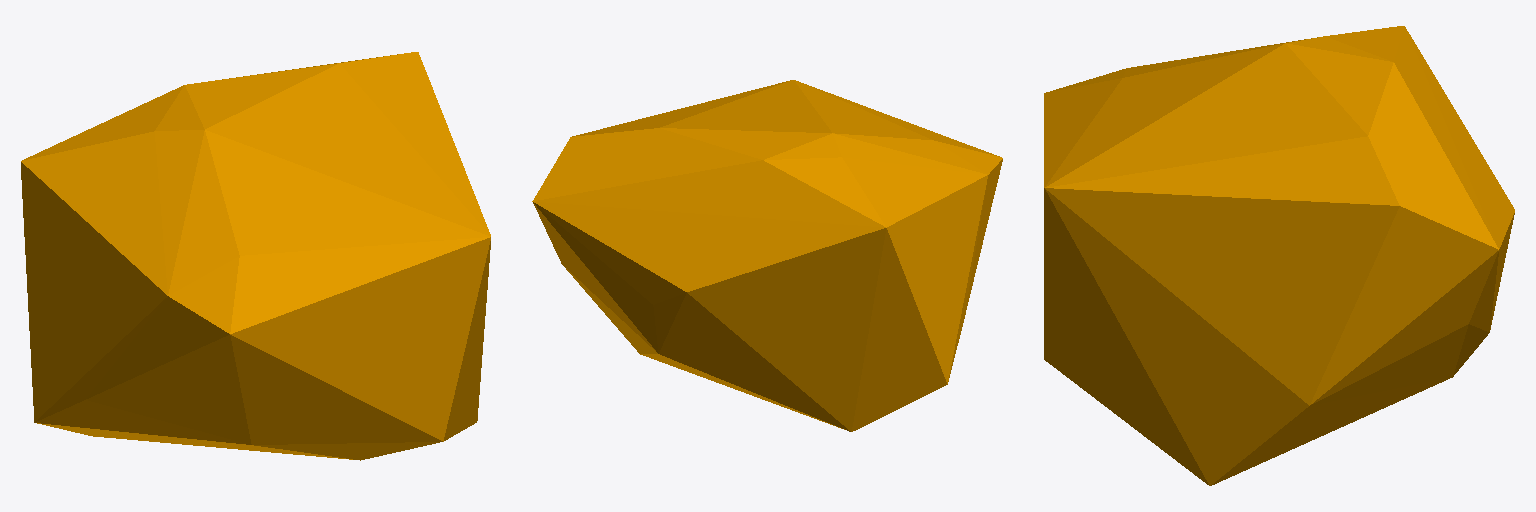
The robot description file, URDF, robot "61_665":
<?xml version="1.0"?>
<robot name="61_665">
  <link name="link">
    <contact>
      <lateral_friction value="0.6"/>
    </contact>
    <inertial>
      <mass value = "0.4599444430202761"/>
      <inertia ixx="0.0002142326211137349" ixy="1.782968277033168e-05" ixz="1.2252240130167542e-06" iyy="0.00023254495920886197" iyz="7.032862670540868e-06" izz="0.00028857791888579155" />
    </inertial>
    <visual name="visual">
      <geometry>
        <mesh filename="61_665.obj"/>
      </geometry>
    </visual>
    <collision name="collision">
      <geometry>
        <mesh filename="61_665.obj"/>
      </geometry>
    </collision>
  </link>
</robot>

--- Render facts (derived) ---
Views: 3 orthographic renders of the robot side by side, from view 1: azimuth 30°, elevation 25°; view 2: azimuth 150°, elevation 25°; view 3: azimuth 270°, elevation 25°.
Robot: 61_665 — 1 links, 0 joints (none); root link link; default pose: all joints at 0.
Links seen in each view (by area): view 1: link; view 2: link; view 3: link.
Link boxes in pixels (x1,y1,x2,y2): link: (21, 52, 490, 460); link: (532, 80, 1002, 431); link: (1044, 26, 1514, 485).
Size in the robot's own frame: 0.0799 by 0.0739 by 0.0566 metres.
1 mesh visuals loaded from 1 distinct referenced files (1 OBJ).
